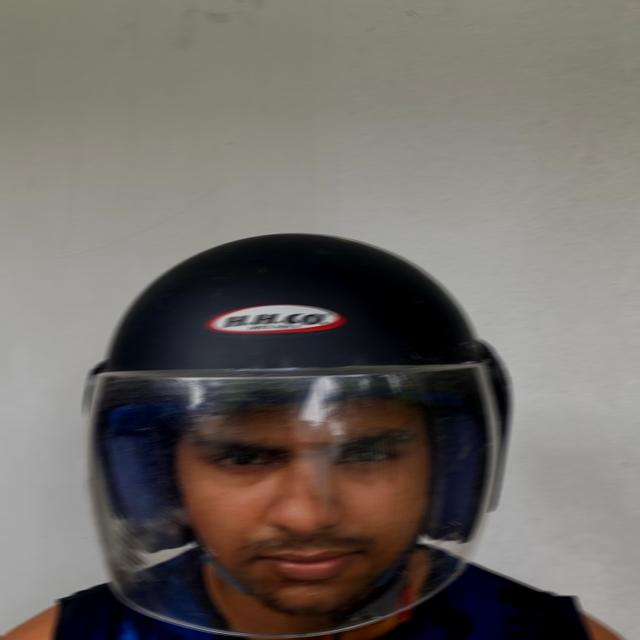With Helmet: (78, 231, 516, 639)
